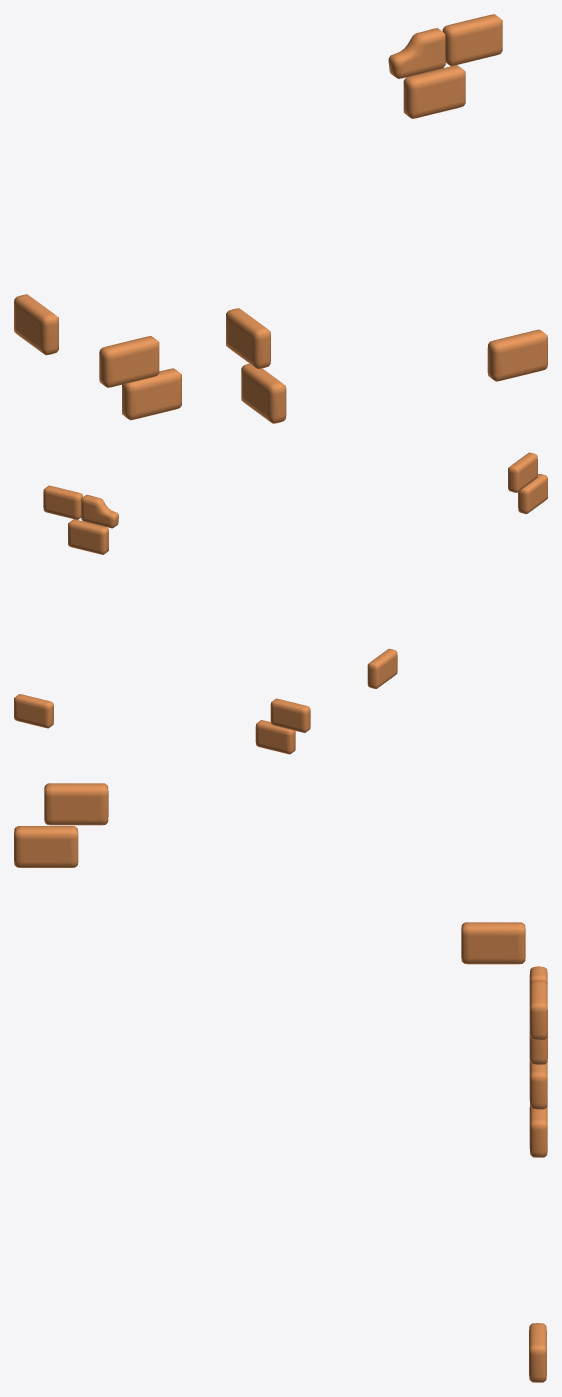
Rendered from Farmhouse_ROOM_wallstones_v01.glb.
The picture shows the model from 3 angles, top to bottom: view 1: azimuth 30°, elevation 25°; view 2: azimuth 150°, elevation 25°; view 3: azimuth 270°, elevation 25°; orthographic projection. The views are drawn at different scales.
Visible parts, largest first — view 1: Farmhouse_ROOM_wallstones_v01; view 2: Farmhouse_ROOM_wallstones_v01; view 3: Farmhouse_ROOM_wallstones_v01.
Part boxes in pixels (box(x1,y1,x2,y2)): Farmhouse_ROOM_wallstones_v01: box(14, 14, 547, 423); Farmhouse_ROOM_wallstones_v01: box(14, 452, 547, 754); Farmhouse_ROOM_wallstones_v01: box(14, 783, 547, 1382).
Size of the model in its own units: 3.82 by 2.46 by 3.33.
